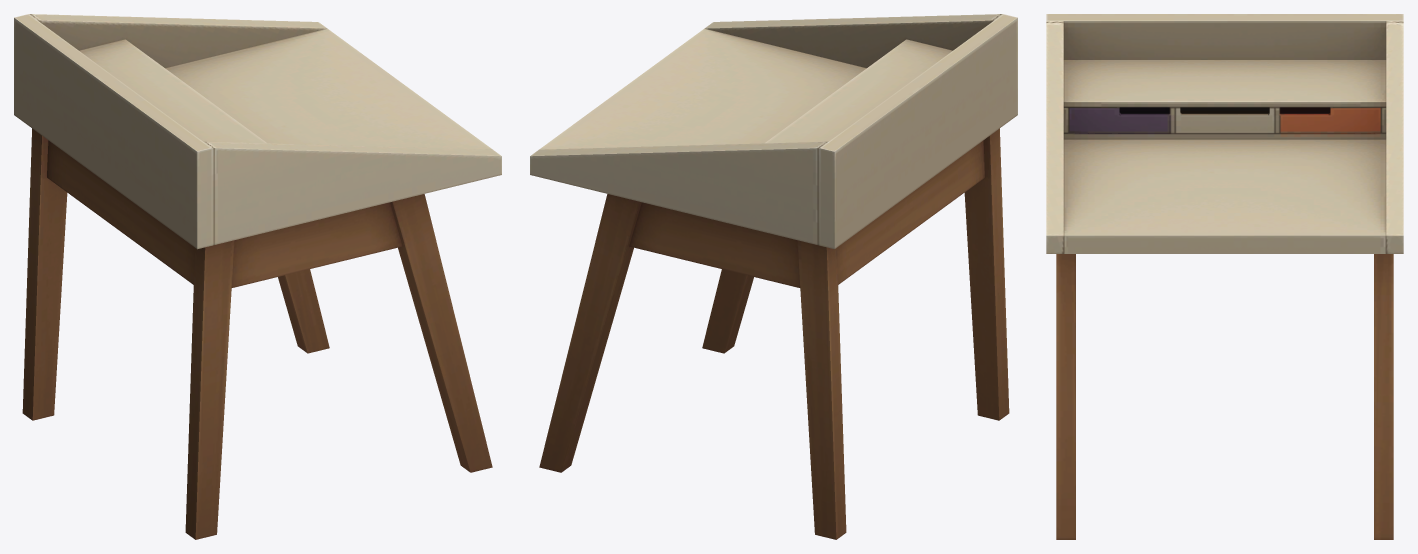
Rendered from tiny_desk_for_tiny_living.glb.
3 views of the same model, side by side, from view 1: azimuth 30°, elevation 25°; view 2: azimuth 150°, elevation 25°; view 3: azimuth 270°, elevation 25° (orthographic). The views are drawn at different scales.
Parts seen in each view (by area): view 1: TinyLiving_TinyDeskForTinyLiving; view 2: TinyLiving_TinyDeskForTinyLiving; view 3: TinyLiving_TinyDeskForTinyLiving.
Part boxes in pixels (x1,y1,x2,y2): TinyLiving_TinyDeskForTinyLiving: (14,14,501,539); TinyLiving_TinyDeskForTinyLiving: (530,14,1017,539); TinyLiving_TinyDeskForTinyLiving: (1046,14,1403,539).
Bounding box in the file's own units: 0.8119 × 1 × 0.8465.
1 material, 1 textured.
